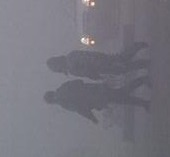person: (42, 78, 155, 125), (45, 40, 153, 78)
